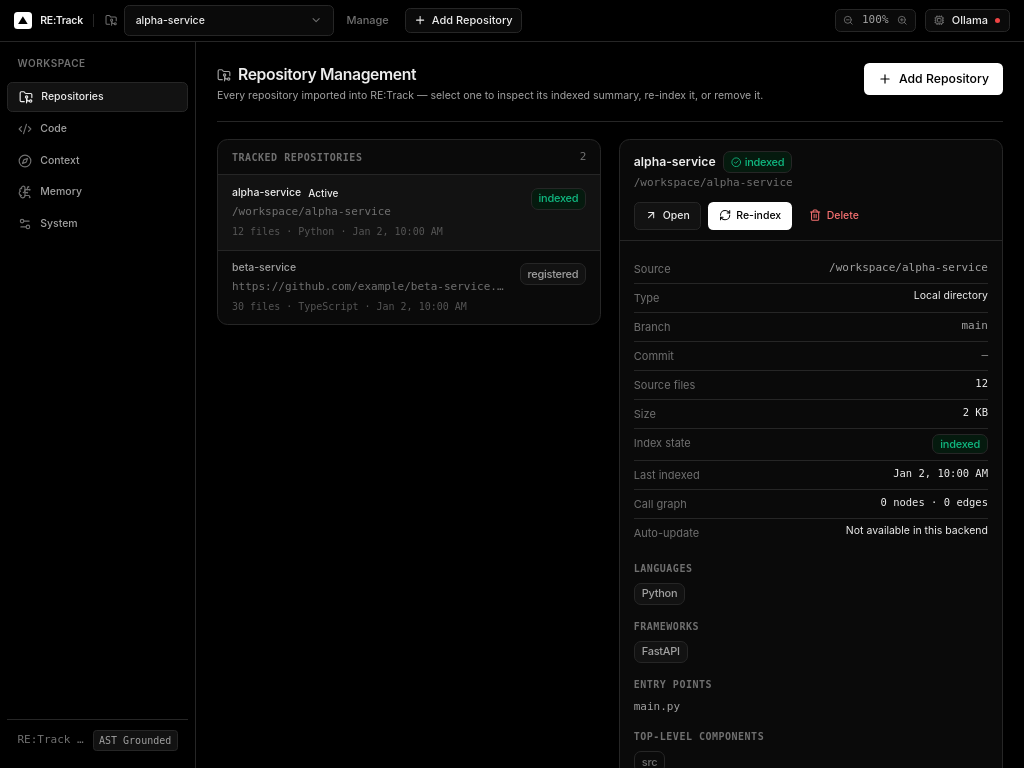
Test case: Repository Management — startup hydration & lifecycle › requires confirmation before deleting and updates the list immediately
Check: the 1st text "alpha-service" is shown, box [136,14,205,28]
Click the button "Delete".
click(834, 216)  # box [799,202,869,230]
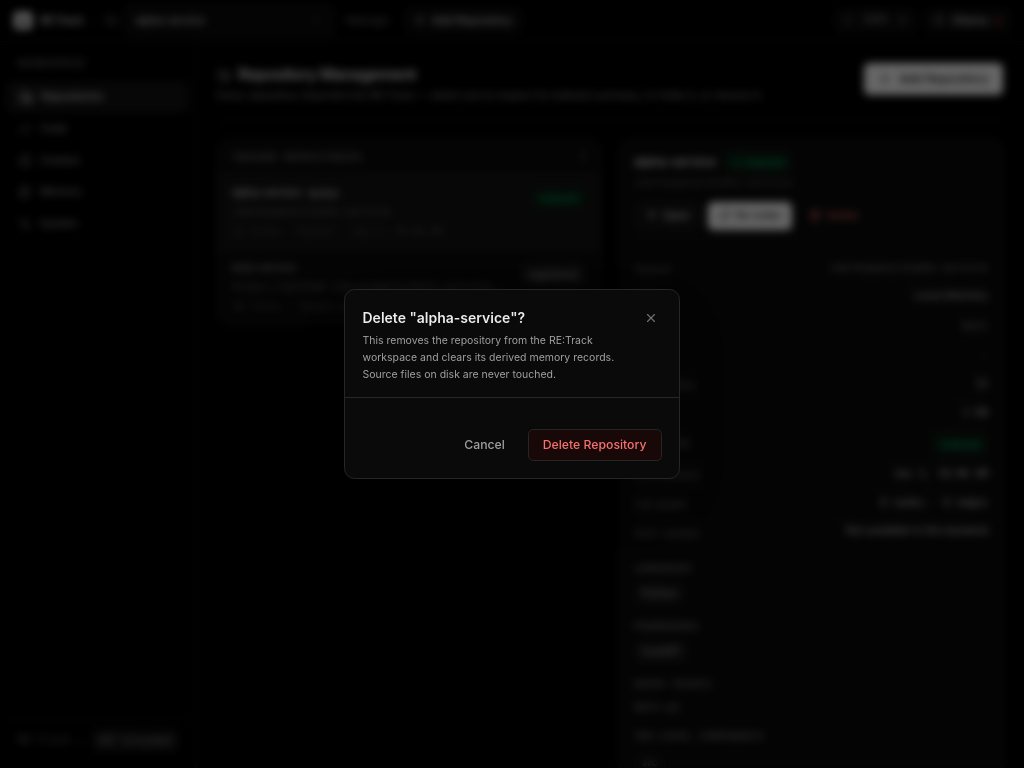
Check: the heading "Delete \"alpha-service\"?" is shown, box [362,309,525,326]
Click the button "Delete Repository".
click(595, 445)  # box [528,429,662,461]
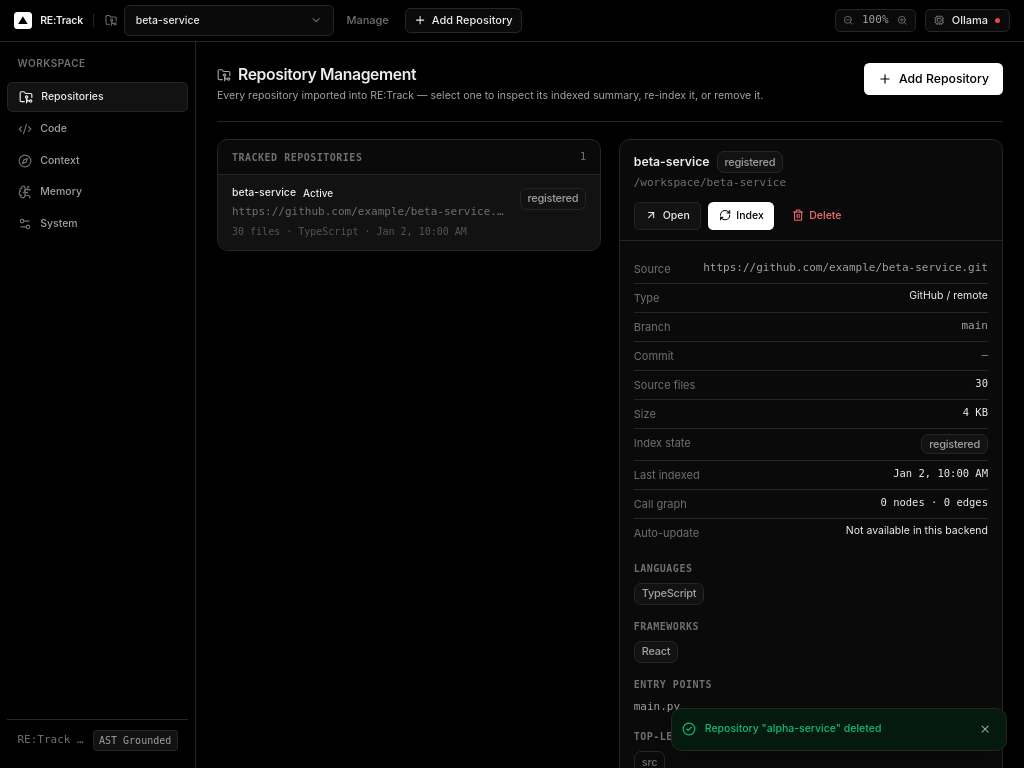
Check: the 1st text "beta-service" is shown, box [136,14,200,28]
